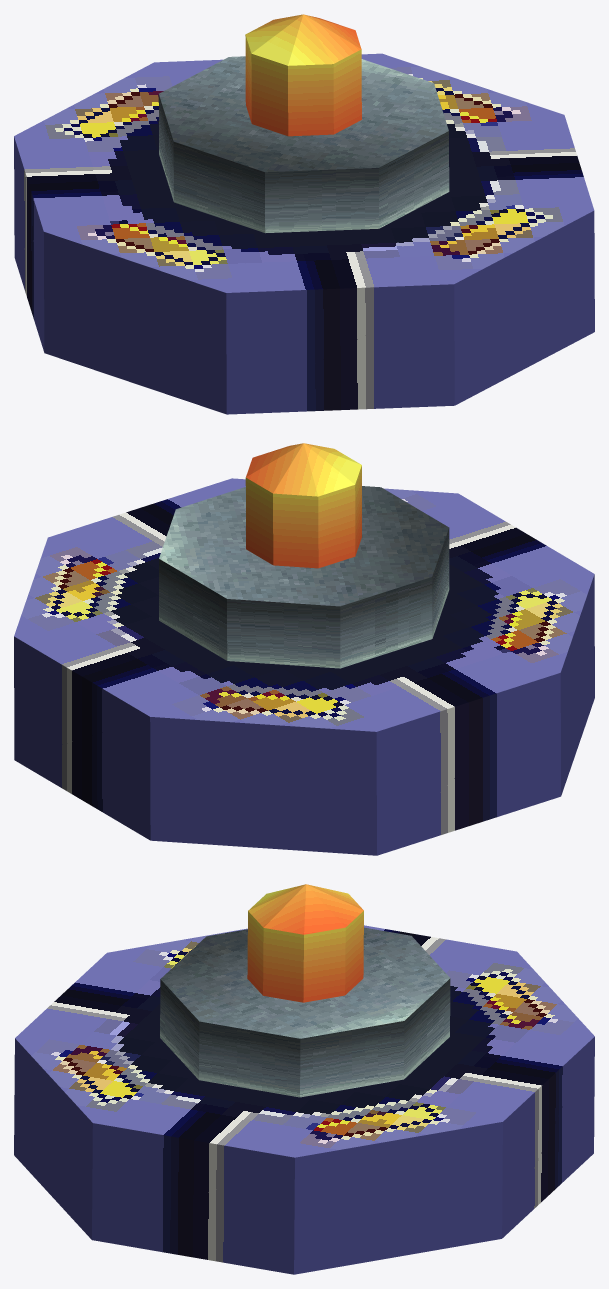
The model's file is LandMine.obj.
The picture shows the model from 3 angles, top to bottom: view 1: azimuth 30°, elevation 25°; view 2: azimuth 150°, elevation 25°; view 3: azimuth 270°, elevation 25°; orthographic projection. The views are drawn at different scales.
Visible parts, largest first — view 1: Mesh.536_DrawCall_345; view 2: Mesh.536_DrawCall_345; view 3: Mesh.536_DrawCall_345.
Part boxes in pixels (bbox=[...]): Mesh.536_DrawCall_345: bbox=[14, 14, 594, 414]; Mesh.536_DrawCall_345: bbox=[14, 443, 594, 855]; Mesh.536_DrawCall_345: bbox=[14, 884, 594, 1274].
Bounding box in the file's own units: 8.99 × 4.72 × 9.17.
4 materials, 4 textured.
